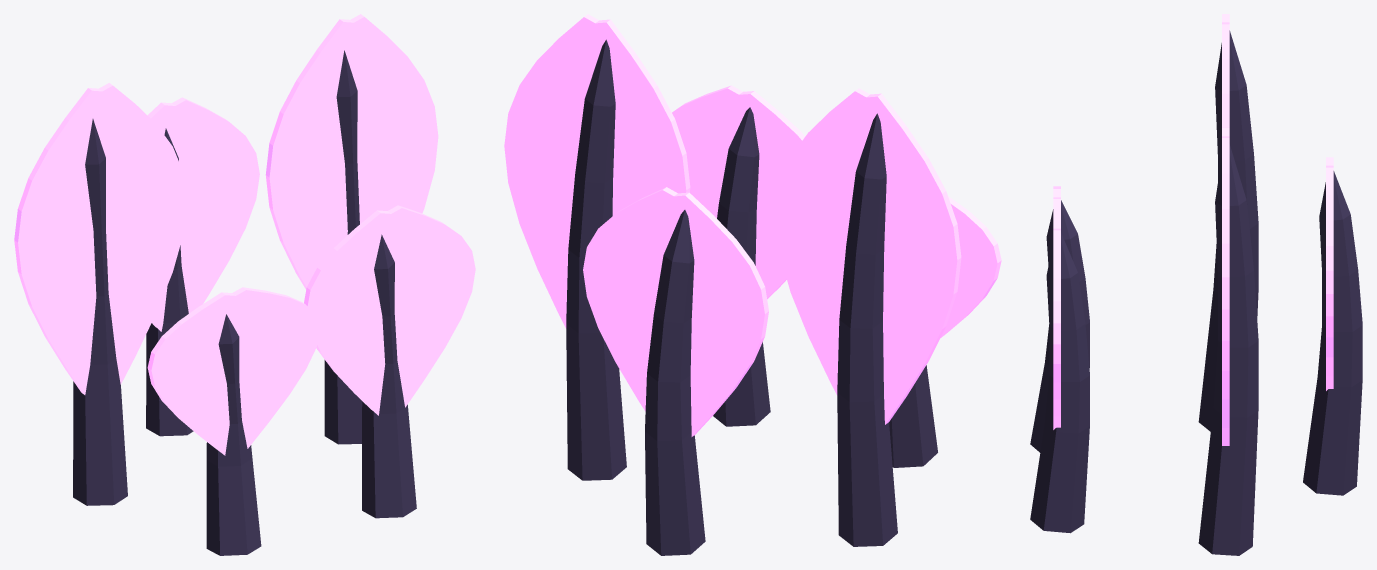
The model's file is GlowPolyps.glb.
3 renders of one model, left to right at view 1: azimuth 30°, elevation 25°; view 2: azimuth 150°, elevation 25°; view 3: azimuth 270°, elevation 25°, orthographic. The views are drawn at different scales.
Parts seen in each view (by area): view 1: GlowPolyps_Glow, GlowPolyps; view 2: GlowPolyps_Glow, GlowPolyps; view 3: GlowPolyps, GlowPolyps_Glow.
Part boxes in pixels (x1=…): GlowPolyps_Glow: x1=14, y1=14, x2=475, y2=455; GlowPolyps: x1=73, y1=50, x2=416, y2=555; GlowPolyps_Glow: x1=504, y1=14, x2=1001, y2=436; GlowPolyps: x1=566, y1=39, x2=937, y2=555; GlowPolyps: x1=1030, y1=30, x2=1362, y2=555; GlowPolyps_Glow: x1=1053, y1=14, x2=1333, y2=445.
Size of the model in its own units: 1.91 by 1.82 by 1.32.
Materials: 2 (1 with a texture image).
